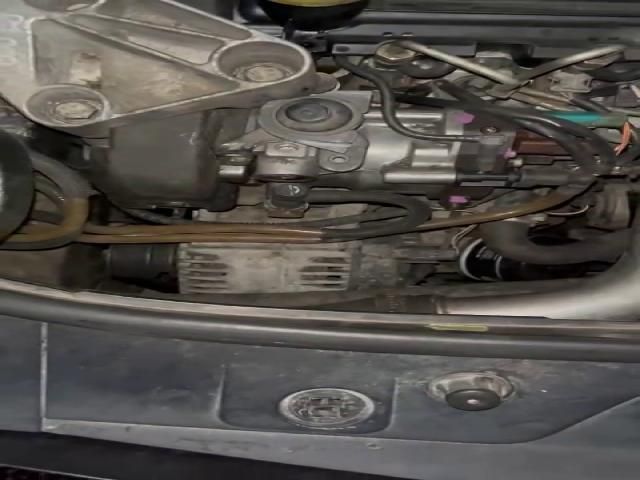alternator: (177, 241, 360, 293)
high_pressure_pump: (247, 112, 570, 209), (406, 109, 459, 134)
